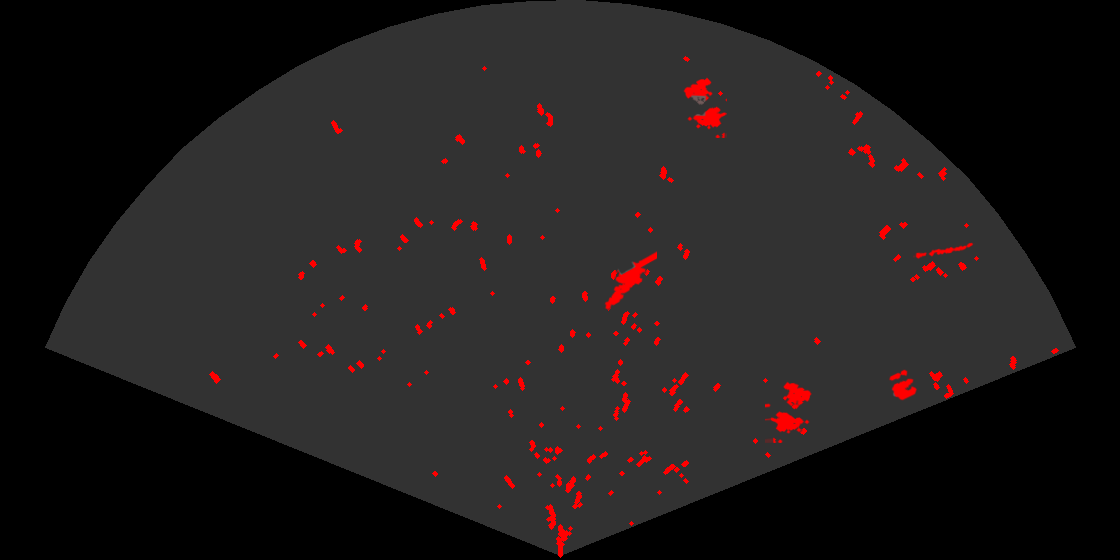ball: (887, 368, 919, 402)
cage: (765, 380, 813, 443), (682, 76, 727, 138)
chain: (913, 241, 975, 260)
frogman: (603, 251, 657, 311)
